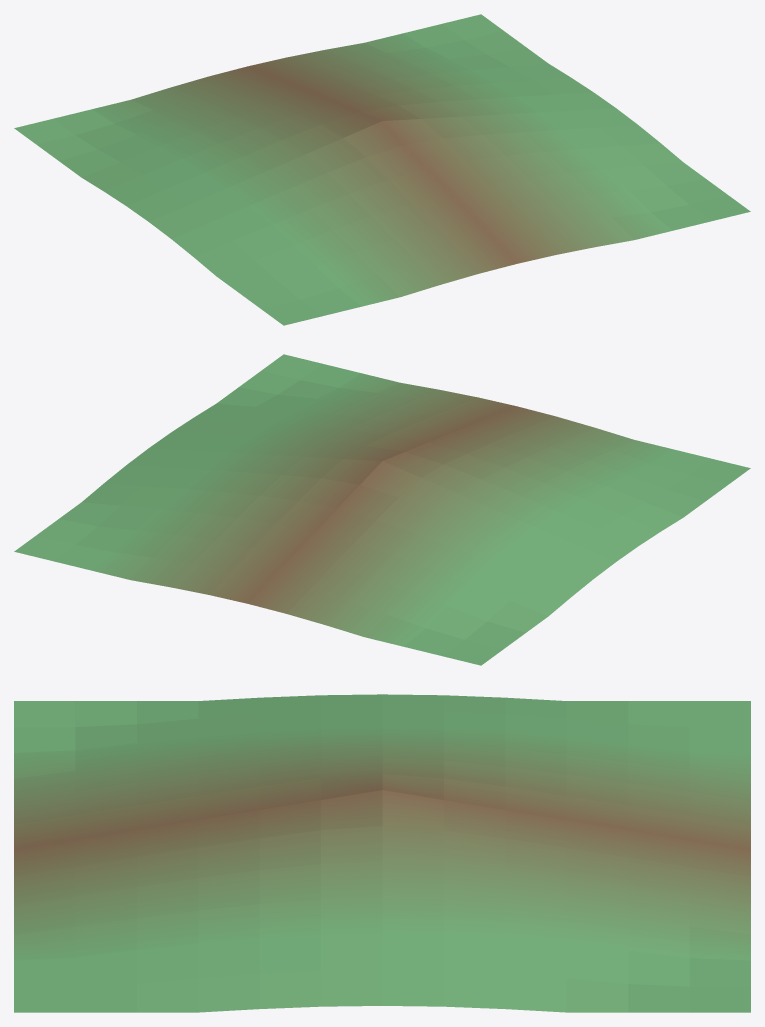
File: island.glb
3 renders of one model, top to bottom at view 1: azimuth 30°, elevation 25°; view 2: azimuth 150°, elevation 25°; view 3: azimuth 270°, elevation 25°, orthographic. The views are drawn at different scales.
Parts seen in each view (by area): view 1: Island; view 2: Island; view 3: Island.
Part boxes in pixels (<box>): Island: <box>14,14,750,325</box>; Island: <box>14,354,750,665</box>; Island: <box>14,694,750,1012</box>.
Size of the model in its own units: 12 by 1.2 by 12.
